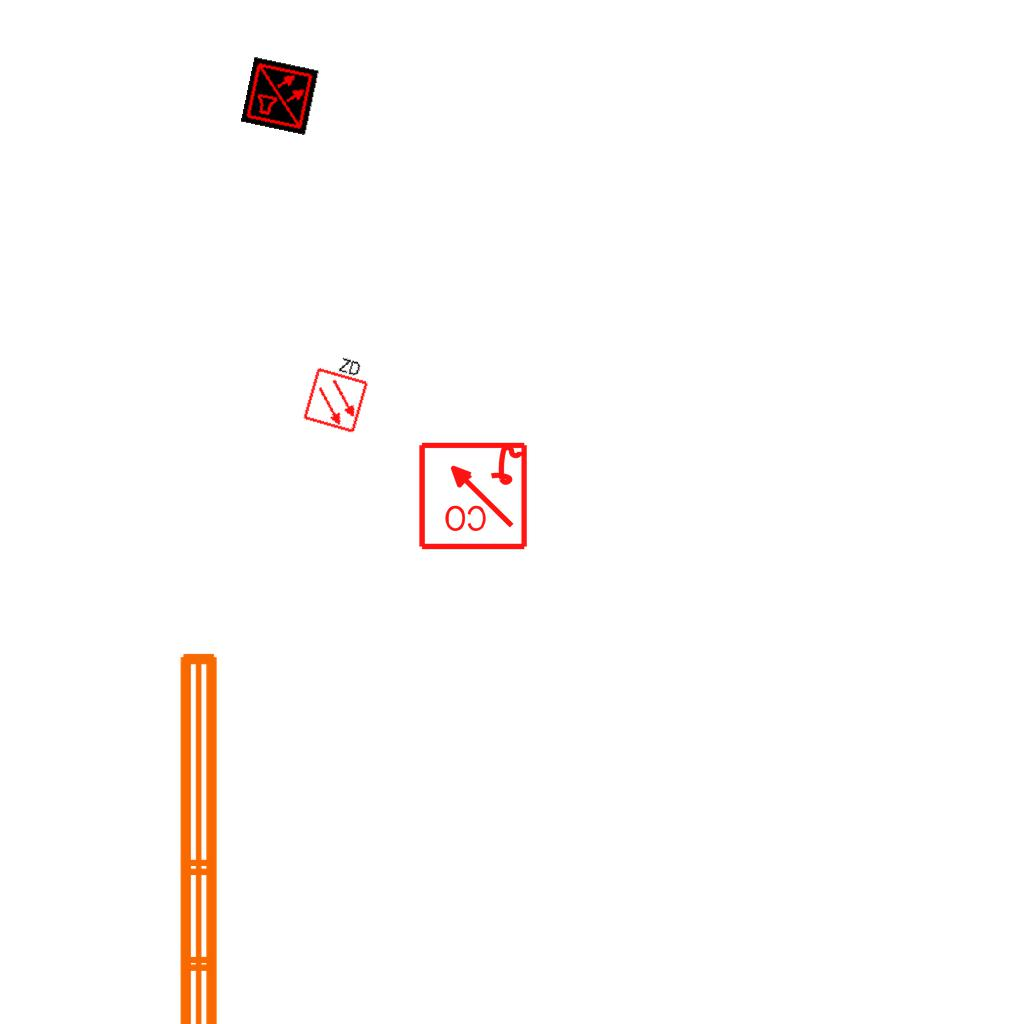Ambulanz_Pendelleuchte_LED: (168, 643, 280, 1024)
OKW_Multisensormelder_(Kombination_optischer_Rauch-Kahlenmonoxid_Waerme-Melder): (240, 56, 320, 136)
ROA_Rauchmelder_optisch_mit_Signalgeber_(Sockelsirene): (416, 438, 529, 551)
ZD_Melder_in_Zwischendecke_mit_Revisionsoeffnung_mind_40_x_40_cm: (299, 347, 376, 435)
